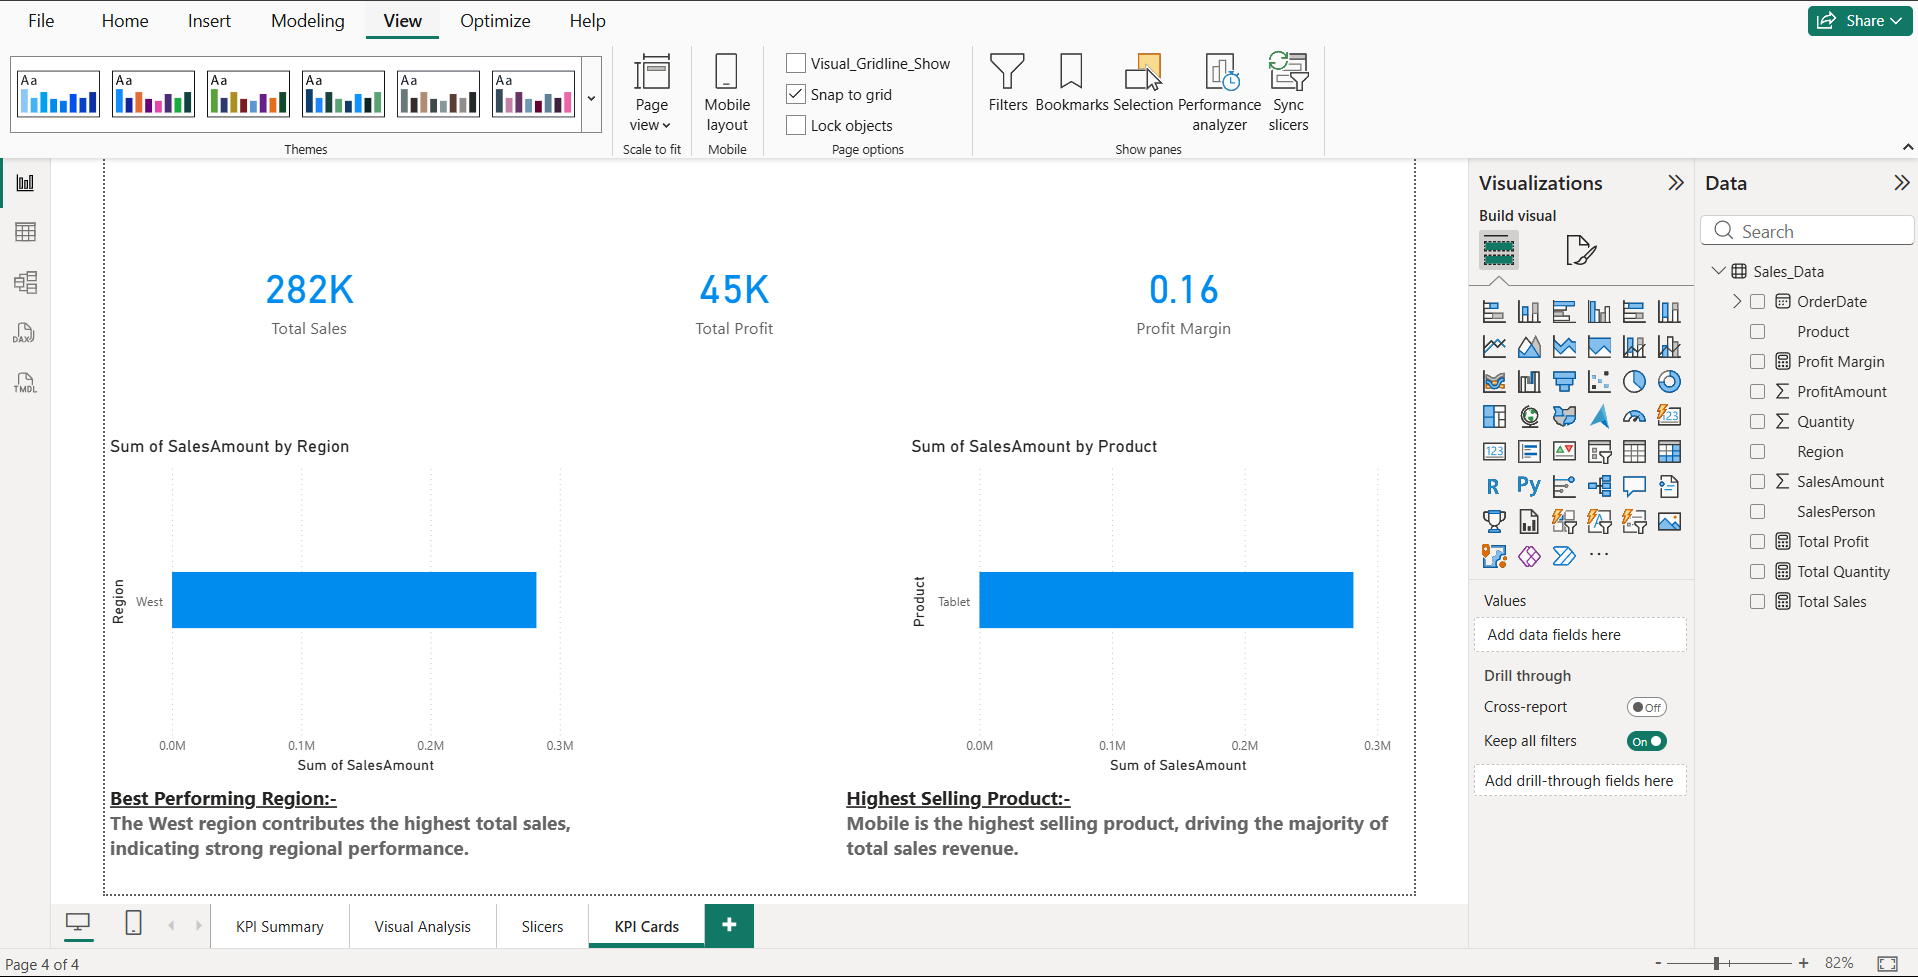

The page's visual inventory and layout, read from the dashboard file:
{"tool":"powerbi","page":{"name":"KPI Cards","canvas":[1280,720],"ordinal":4},"visuals":[{"type":"card","fields":{"Values":["Sales_Data.Total Sales"]},"box":[0,0,400,272],"z":0},{"type":"card","fields":{"Values":["Sales_Data.Total Profit"]},"box":[400,0,432,272],"z":1000},{"type":"card","fields":{"Values":["Sales_Data.Profit Margin"]},"box":[832,0,448,272],"z":2000},{"type":"clusteredBarChart","fields":{"Category":["Sales_Data.Region"],"Y":["Sum(Sales_Data.SalesAmount)"]},"box":[0,272,464,336],"z":3000},{"type":"clusteredBarChart","fields":{"Category":["Sales_Data.Product"],"Y":["Sum(Sales_Data.SalesAmount)"]},"box":[784,272,480,336],"z":4000},{"type":"textbox","box":[0,608,496,112],"z":5000},{"type":"textbox","box":[720,608,560,112],"z":6000}]}

Visuals, with their boxes on the page's 1280x720 design canvas (x1, y1, x2, y2). These are canvas units, not pixel positions in the 1918x977 screenshot, which may show the page scaled, cropped or inside an application window:
card - Sales_Data.Total Sales: x1=0, y1=0, x2=400, y2=272
card - Sales_Data.Total Profit: x1=400, y1=0, x2=832, y2=272
card - Sales_Data.Profit Margin: x1=832, y1=0, x2=1280, y2=272
clusteredBarChart - Sales_Data.Region x Sum(Sales_Data.SalesAmount): x1=0, y1=272, x2=464, y2=608
clusteredBarChart - Sales_Data.Product x Sum(Sales_Data.SalesAmount): x1=784, y1=272, x2=1264, y2=608
textbox: x1=0, y1=608, x2=496, y2=720
textbox: x1=720, y1=608, x2=1280, y2=720
